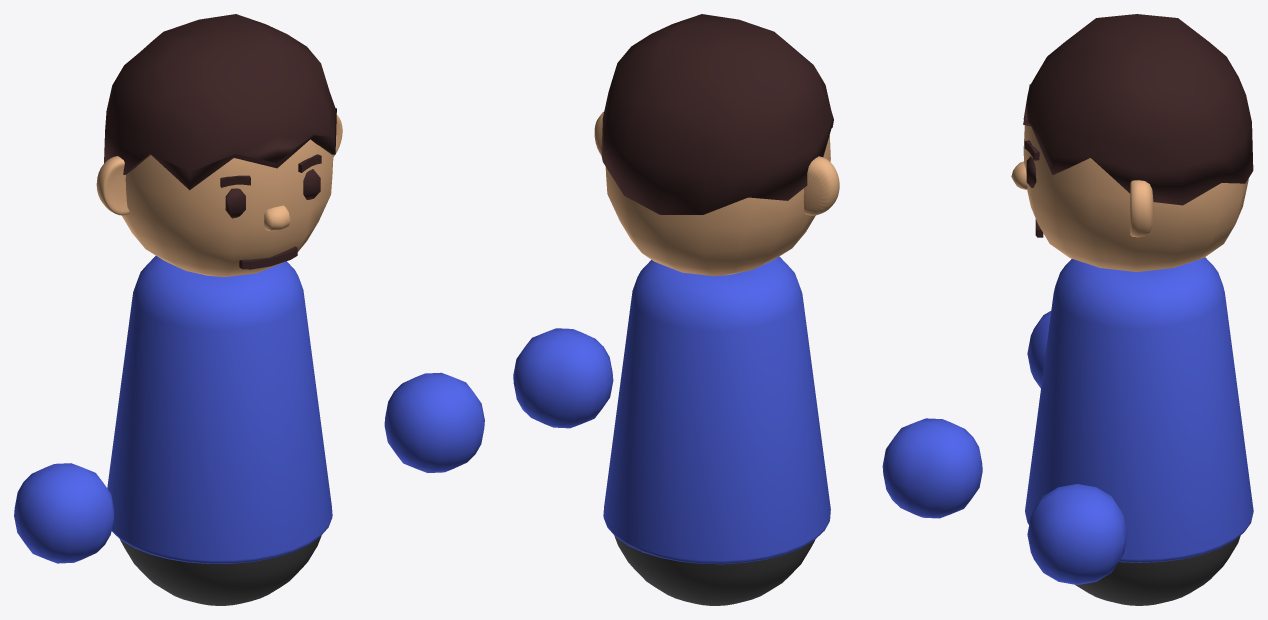
File: mii-only.glb
3 renders of one model, left to right at view 1: azimuth 30°, elevation 25°; view 2: azimuth 150°, elevation 25°; view 3: azimuth 270°, elevation 25°, orthographic.
Visible parts, largest first — view 1: eyebrows; view 2: eyebrows; view 3: eyebrows.
Boxes of the visible parts, x1,y1,x2,y2 form: eyebrows: [14, 14, 484, 605]; eyebrows: [513, 14, 982, 605]; eyebrows: [1011, 14, 1253, 605].
Bounding box in the file's own units: 1.52 × 1.8 × 0.6984.
